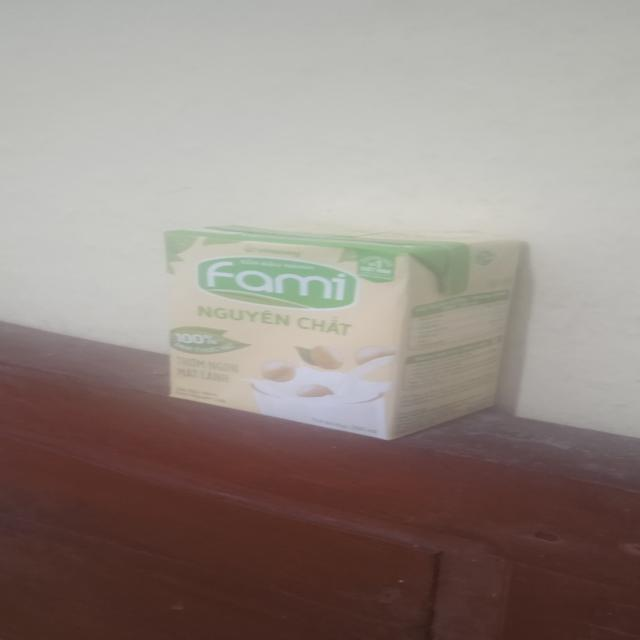Fami: (174, 229, 531, 440)
